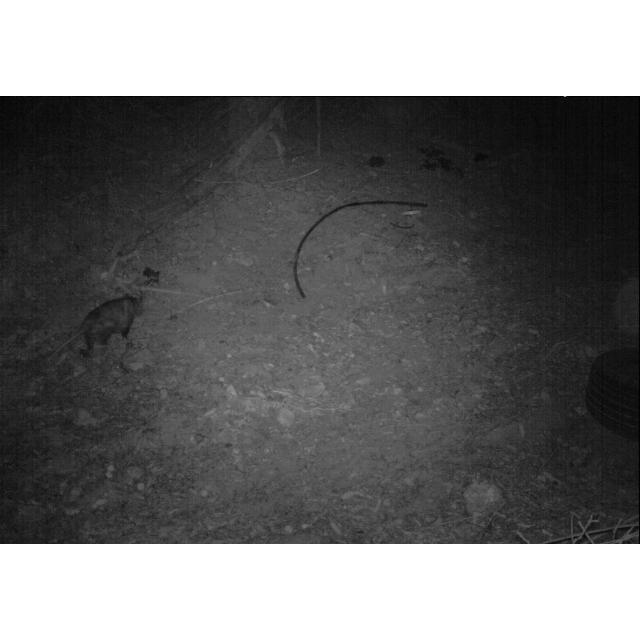animals: (80, 290, 152, 358)
